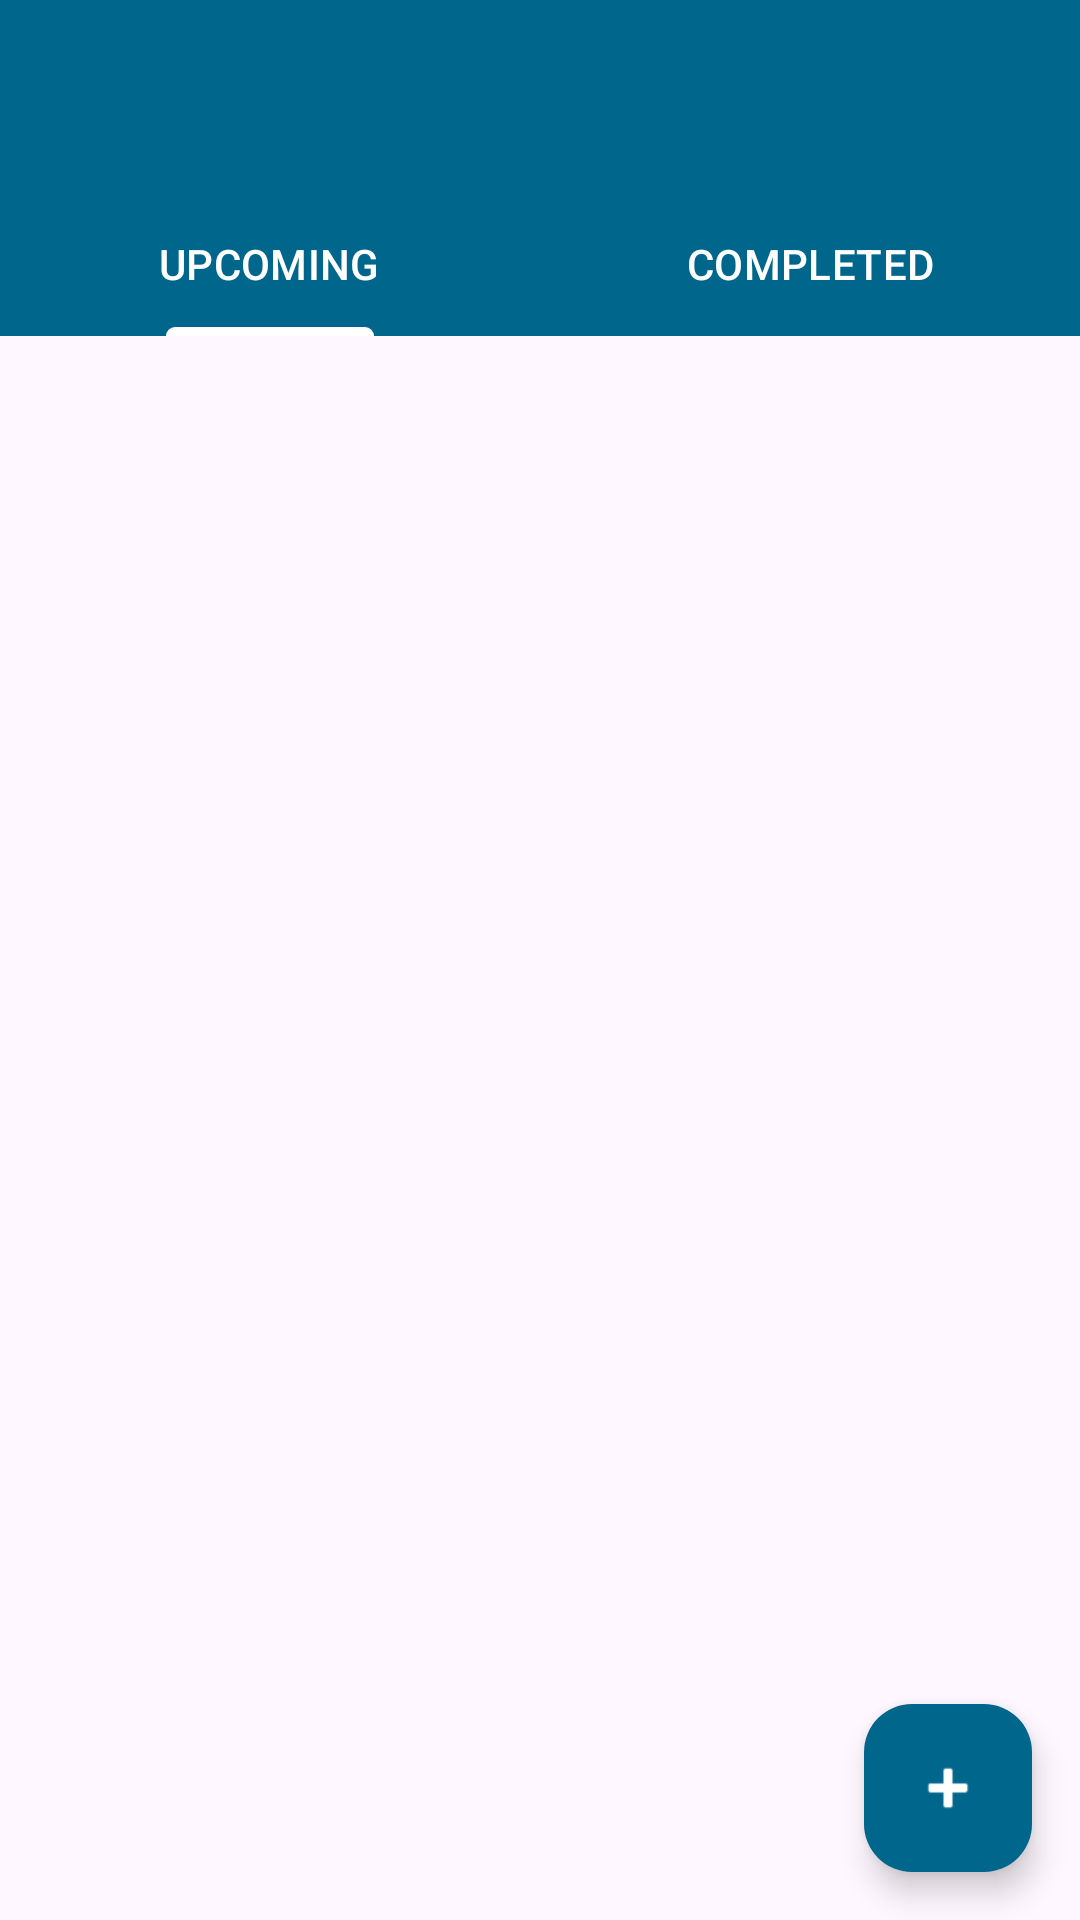

Point at icon controls on the screen. Image size 1080 × 1920, points as point (x, y).
Add new lesson: point (948, 1788)
